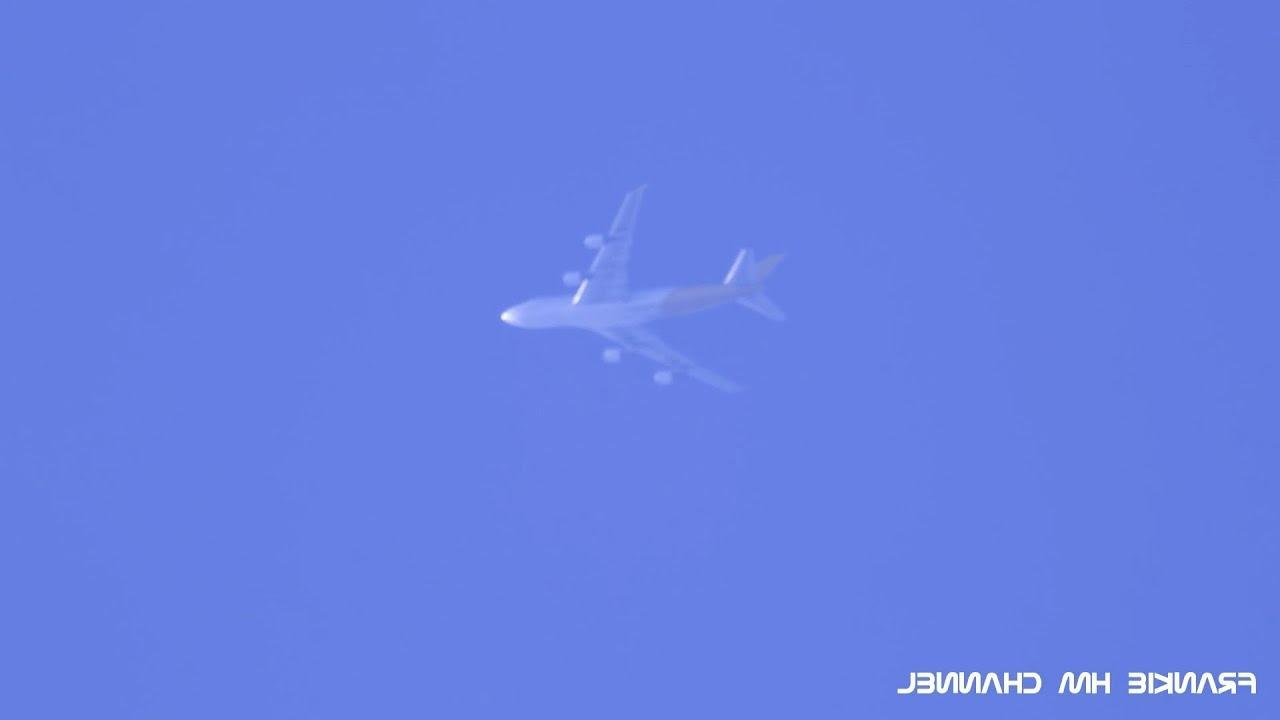Plane: (420, 171, 849, 413)
